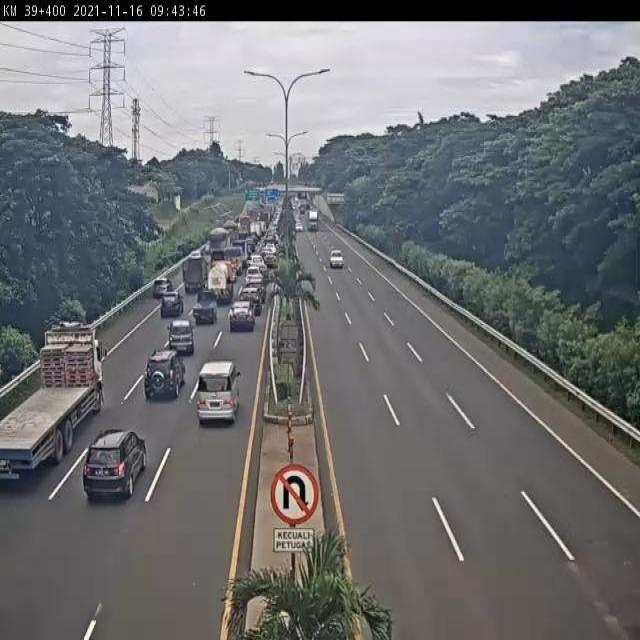ARABA: (82, 424, 147, 495), (195, 360, 240, 428), (143, 352, 185, 404), (167, 324, 196, 363), (228, 302, 255, 338), (191, 292, 217, 327), (159, 293, 183, 319), (240, 288, 262, 315), (150, 279, 171, 301), (246, 279, 266, 300), (246, 265, 264, 284), (248, 254, 264, 266), (295, 220, 302, 229)
KAMYONET: (206, 261, 234, 307), (178, 260, 205, 299), (206, 230, 228, 266), (224, 246, 243, 274)
TIR: (0, 325, 100, 479), (306, 208, 316, 227)
